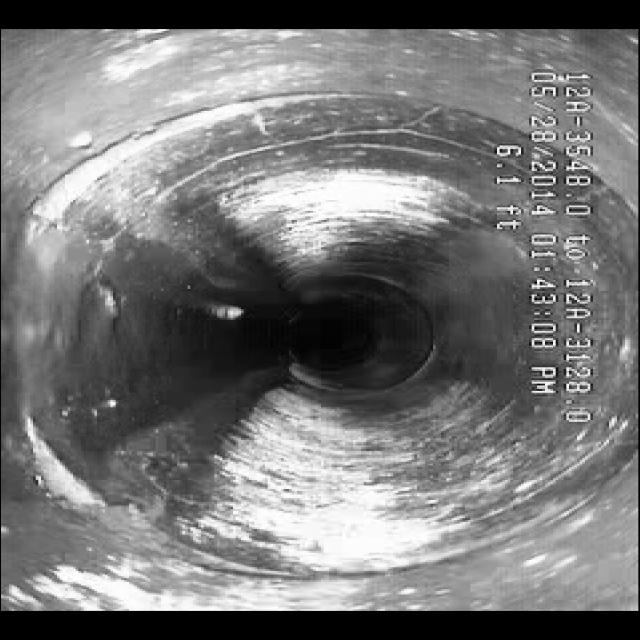Crack: (128, 108, 494, 206)
